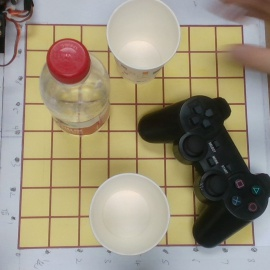bottle: (40, 39, 114, 162)
cup: (104, 1, 181, 98), (89, 172, 170, 255)
remote: (138, 95, 270, 249)
